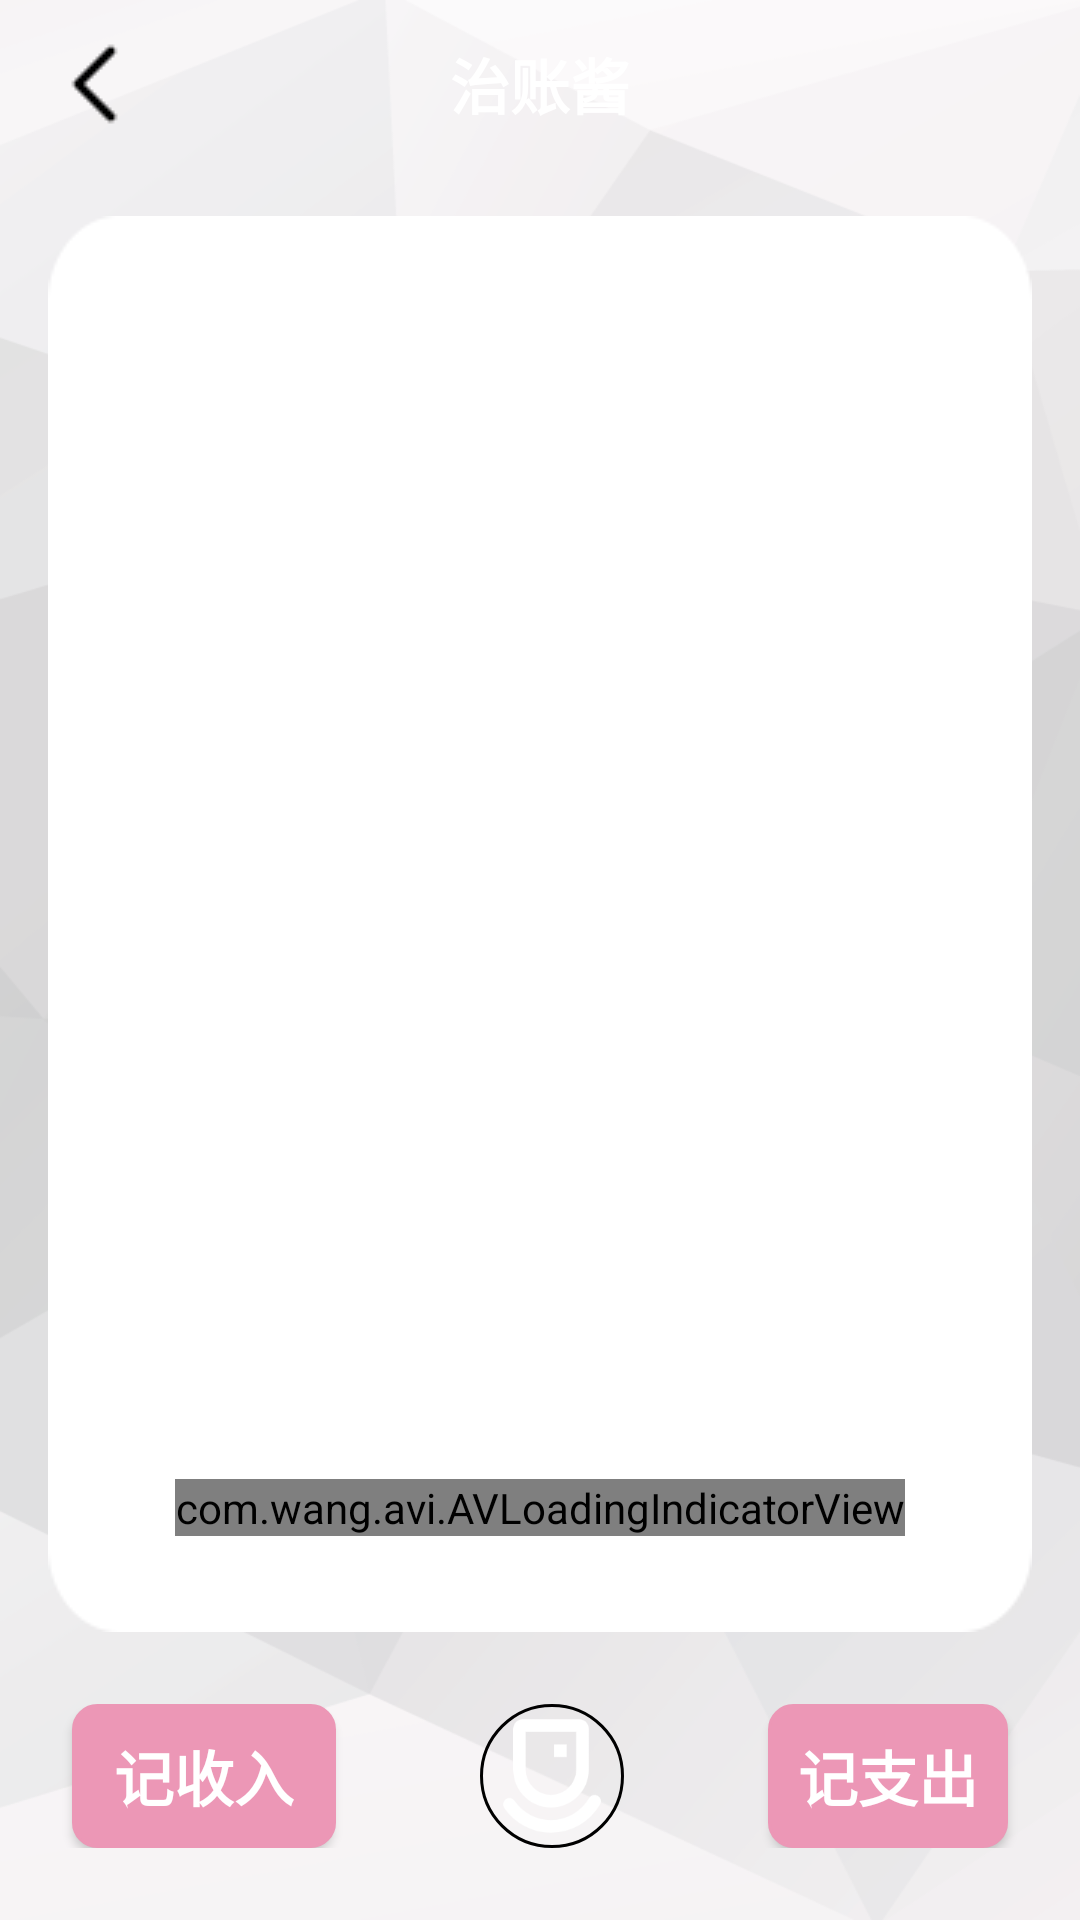

Icons on this 1080×1920 Android screen, each with the point to tap as (x,y):
left: (95,84)
